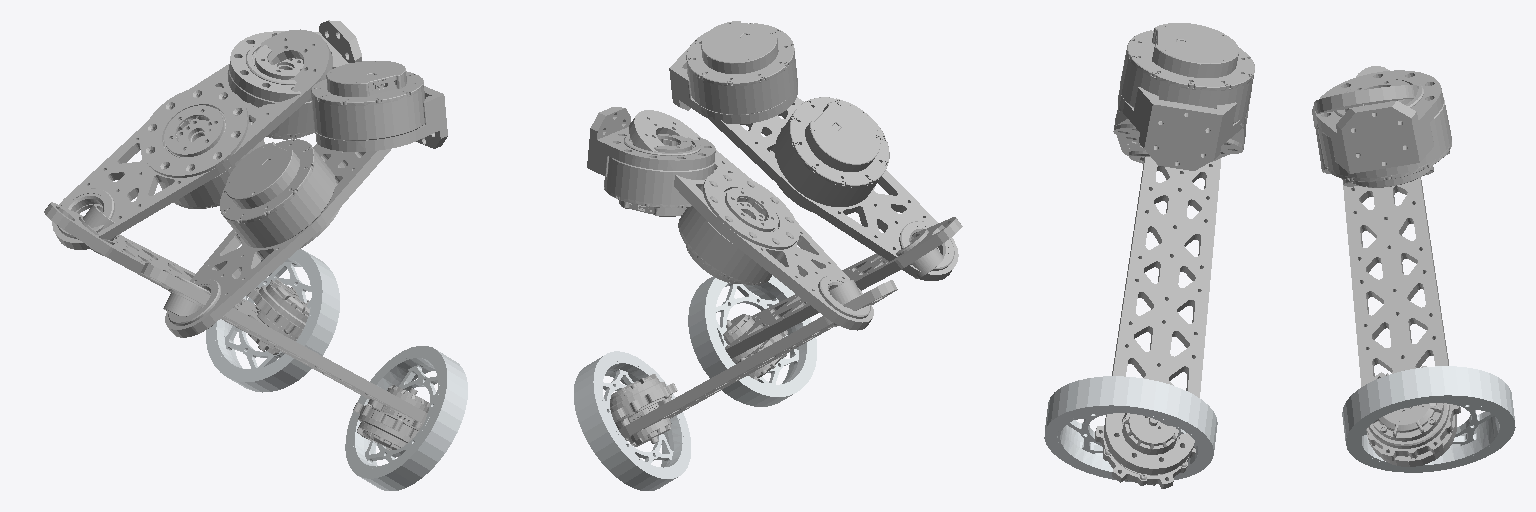
robot.urdf — XbT:
<?xml version="1.0" encoding="utf-8"?>
<!-- This URDF was automatically created by SolidWorks to URDF Exporter! Originally created by [author] ([email redacted]) 
     Commit Version: 1.6.0-4-g7f85cfe  Build Version: 1.6.7995.38578
     For more information, please see http://wiki.ros.org/sw_urdf_exporter -->
<robot
  name="XbT">
  <link name="world" />
  <joint name="floating_base" type="floating">
    <origin rpy="0 0 0" xyz="0 0 0" />
    <parent link="world" />
    <child link="base_link" />
  </joint>
  <link
    name="base_link">
    <inertial>
      <origin
        xyz="-0.036529 0.012661 0.070741"
        rpy="0 0 0" />
      <mass
        value="5.295" />
      <inertia
        ixx="0.056"
        ixy="-0.002"
        ixz="-0.013"
        iyy="0.042"
        iyz="0.001"
        izz="0.058" />
    </inertial>
    <visual>
      <origin
        xyz="0 0 0"
        rpy="-1.5707963 0 0" />
      <geometry>
        <mesh
          filename="../meshes/base_link.STL" />
      </geometry>
      <material
        name="">
        <color
          rgba="0.75294 0.75294 0.75294 1" />
      </material>
    </visual>
    <collision>
      <origin
        xyz="-0.05 0 0.12"
        rpy="0 0 0" />
      <geometry>
        <!-- <mesh
          filename="../meshes/base_link.STL" /> -->
        <box size="0.25 0.28 0.1" />
      </geometry>
    </collision>
  </link>
  <link
    name="left_leg_link">
    <inertial>
      <origin
        xyz="-0.052538 0.010674 9.1537E-05"
        rpy="0 0 0" />
      <mass
        value="1.187" />
      <inertia
        ixx="0.001"
        ixy="0"
        ixz="0"
        iyy="0.002"
        iyz="0"
        izz="0.001" />
    </inertial>
    <visual>
      <origin
        xyz="0 0 0"
        rpy="-1.5707963 0 0" />
      <geometry>
        <mesh
          filename="../meshes/left_leg_link.STL" />
      </geometry>
      <material
        name="">
        <color
          rgba="0.75294 0.75294 0.75294 1" />
      </material>
    </visual>
    <!-- <collision>
      <origin
        xyz="0 0 0"
        rpy="0 0 0" />
      <geometry>
        <mesh
          filename="../meshes/left_leg_link.STL" />
      </geometry>
    </collision> -->
  </link>
  <joint
    name="left_leg"
    type="revolute">
    <origin
      xyz="-0.0128 0.075 0"
      rpy="0.174532925199427 0 0" />
    <parent
      link="base_link" />
    <child
      link="left_leg_link" />
    <axis
      xyz="1 0 0" />
    <limit
      lower="-0.5"
      upper="1.5"
      effort="35"
      velocity="25" />
  </joint>
  <link
    name="left_thigh_Link">
    <inertial>
      <origin
        xyz="-0.10508 0.0024808 4.3413E-05"
        rpy="0 0 0" />
      <mass
        value="1.352" />
      <inertia
        ixx="0.001"
        ixy="0"
        ixz="0"
        iyy="0.004"
        iyz="0"
        izz="0.003" />
    </inertial>
    <visual>
      <origin
        xyz="0 0 0"
        rpy="-1.5707963 0 0" />
      <geometry>
        <mesh
          filename="../meshes/left_thigh_Link.STL" />
      </geometry>
      <material
        name="">
        <color
          rgba="0.75294 0.75294 0.75294 1" />
      </material>
    </visual>
    <collision>
      <origin
        xyz="0 0 0"
        rpy="0 0 0" />
      <geometry>
        <mesh
          filename="../meshes/left_thigh_Link.STL" />
      </geometry>
    </collision>
  </link>
  <joint
    name="left_thigh"
    type="revolute">
    <origin
      xyz="-0.061 -0.00870000000000029 0"
      rpy="0 -0.515645804996215 0" />
    <parent
      link="left_leg_link" />
    <child
      link="left_thigh_Link" />
    <axis
      xyz="0 1 0" />
    <limit
      lower="-1.2"
      upper="0.7"
      effort="35"
      velocity="25" />
  </joint>
  <link
    name="left_calf_Link">
    <inertial>
      <origin
        xyz="-0.14436 -0.0024636 4.8404E-05"
        rpy="0 0 0" />
      <mass
        value="0.435" />
      <inertia
        ixx="0.00001"
        ixy="0"
        ixz="0"
        iyy="0.005"
        iyz="0"
        izz="0.004" />
    </inertial>
    <visual>
      <origin
        xyz="0 0 0"
        rpy="-1.5707963 0 0" />
      <geometry>
        <mesh
          filename="../meshes/left_calf_Link.STL" />
      </geometry>
      <material
        name="">
        <color
          rgba="0.75294 0.75294 0.75294 1" />
      </material>
    </visual>
    <collision>
      <origin
        xyz="-0.12 -0.006 0"
        rpy="0 0 0" />
      <geometry>
        <!-- <mesh
          filename="../meshes/left_calf_Link.STL" /> -->
        <box size="0.15 0.01 0.06" />  
      </geometry>
    </collision>
  </link>
  <joint
    name="left_calf"
    type="revolute">
    <origin
      xyz="-0.22 -0.0135 0"
      rpy="-3.14159265358979 -1.16905570038803 3.14159265358979" />
    <parent
      link="left_thigh_Link" />
    <child
      link="left_calf_Link" />
    <axis
      xyz="0 -1 0" />
    <limit
      lower="-1.0"
      upper="0.42"
      effort="35"
      velocity="25" />
  </joint>
  <link
    name="left_foot_Link">
    <inertial>
      <origin
        xyz="1.1102E-16 -0.0025 0"
        rpy="0 0 0" />
      <mass
        value="0.20416" />
      <inertia
        ixx="0.00001"
        ixy="0"
        ixz="0"
        iyy="0.001"
        iyz="0"
        izz="0.00001" />
    </inertial>
    <visual>
      <origin
        xyz="0 0 0"
        rpy="-1.5707963 0 0" />
      <geometry>
        <mesh
          filename="../meshes/left_foot_Link.STL" />
      </geometry>
      <material
        name="">
        <color
          rgba="0.89804 0.91765 0.92941 1" />
      </material>
    </visual>
    <collision>
      <origin
        xyz="0 0 0"
        rpy="0 0 0" />
      <geometry>
        <mesh
          filename="../meshes/left_foot_Link.STL" />
      </geometry>
    </collision>
  </link>
  <joint
    name="left_foot"
    type="revolute">
    <origin
      xyz="-0.25 0.01431 0"
      rpy="0 1.54054587363839 -3.14159265358975" />
    <parent
      link="left_calf_Link" />
    <child
      link="left_foot_Link" />
    <axis
      xyz="0 1 0" />
    <limit
      effort="3.5"
      velocity="55"
      lower="-999999" 
      upper="999999" />
  </joint>
  <link
    name="right_leg_Link">
    <inertial>
      <origin
        xyz="-0.052538 -0.010674 -9.1537E-05"
        rpy="0 0 0" />
      <mass
        value="1.187" />
      <inertia
        ixx="0.001"
        ixy="0"
        ixz="0"
        iyy="0.002"
        iyz="0"
        izz="0.001" />
    </inertial>
    <visual>
      <origin
        xyz="0 0 0"
        rpy="-1.5707963 0 0" />
      <geometry>
        <mesh
          filename="../meshes/right_leg_Link.STL" />
      </geometry>
      <material
        name="">
        <color
          rgba="0.75294 0.75294 0.75294 1" />
      </material>
    </visual>
    <!-- <collision>
      <origin
        xyz="0 0 0"
        rpy="0 0 0" />
      <geometry>
        <mesh
          filename="../meshes/right_leg_Link.STL" />
      </geometry>
    </collision> -->
  </link>
  <joint
    name="right_leg"
    type="revolute">
    <origin
      xyz="-0.0128 -0.0750000000000003 0"
      rpy="-0.174532925199426 0 0" />
    <parent
      link="base_link" />
    <child
      link="right_leg_Link" />
    <axis
      xyz="1 0 0" />
    <limit
      lower="-1.5"
      upper="0.5"
      effort="35"
      velocity="25" />
  </joint>
  <link
    name="right_thigh_Link">
    <inertial>
      <origin
        xyz="-0.10508 -0.0024808 -4.3413E-05"
        rpy="0 0 0" />
      <mass
        value="1.352" />
      <inertia
        ixx="0.001"
        ixy="0"
        ixz="0"
        iyy="0.004"
        iyz="0"
        izz="0.003" />
    </inertial>
    <visual>
      <origin
        xyz="0 0 0"
        rpy="-1.5707963 0 0" />
      <geometry>
        <mesh
          filename="../meshes/right_thigh_Link.STL" />
      </geometry>
      <material
        name="">
        <color
          rgba="0.75294 0.75294 0.75294 1" />
      </material>
    </visual>
    <collision>
      <origin
        xyz="0 0 0"
        rpy="0 0 0" />
      <geometry>
        <mesh
          filename="../meshes/right_thigh_Link.STL" />
      </geometry>
    </collision>
  </link>
  <joint
    name="right_thigh"
    type="revolute">
    <origin
      xyz="-0.0610000000000001 0.0087000000000003 0"
      rpy="0 -0.576283762917694 0" />
    <parent
      link="right_leg_Link" />
    <child
      link="right_thigh_Link" />
    <axis
      xyz="0 -1 0" />
    <limit
      lower="-0.7"
      upper="1.2"
      effort="35"
      velocity="25" />
  </joint>
  <link
    name="right_calf_Link">
    <inertial>
      <origin
        xyz="-0.14436 -0.0024636 4.8403E-05"
        rpy="0 0 0" />
      <mass
        value="0.43522" />
      <inertia
        ixx="0.00001"
        ixy="0.001"
        ixz="0"
        iyy="0.004"
        iyz="0"
        izz="0.004" />
    </inertial>
    <visual>
      <origin
        xyz="0 0 0"
        rpy="-1.5707963 0 0" />
      <geometry>
        <mesh
          filename="../meshes/right_calf_Link.STL" />
      </geometry>
      <material
        name="">
        <color
          rgba="0.75294 0.75294 0.75294 1" />
      </material>
    </visual>
    <collision>
      <origin
        xyz="-0.12 -0.006 0"
        rpy="0 0 0" />
      <geometry>
        <!-- <mesh
          filename="../meshes/right_calf_Link.STL" /> -->
        <box size="0.15 0.01 0.06" />
      </geometry>
    </collision>
  </link>
  <joint
    name="right_calf"
    type="revolute">
    <origin
      xyz="-0.22 0.0135 0"
      rpy="0 -1.22091642511945 3.14159265358979" />
    <parent
      link="right_thigh_Link" />
    <child
      link="right_calf_Link" />
    <axis
      xyz="0 -1 0" />
    <limit
      lower="-0.42"
      upper="1.0"
      effort="35"
      velocity="25" />
  </joint>
  <link
    name="right_foot_Link">
    <inertial>
      <origin
        xyz="-1.1102E-16 0.0025 -5.5511E-17"
        rpy="0 0 0" />
      <mass
        value="0.20416" />
      <inertia
        ixx="0.00001"
        ixy="0"
        ixz="0"
        iyy="0.001"
        iyz="0"
        izz="0.00001" />
    </inertial>
    <visual>
      <origin
        xyz="0 0 0"
        rpy="-1.5707963 0 0" />
      <geometry>
        <mesh
          filename="../meshes/right_foot_Link.STL" />
      </geometry>
      <material
        name="">
        <color
          rgba="0.89804 0.91765 0.92941 1" />
      </material>
    </visual>
    <collision>
      <origin
        xyz="0 0 0"
        rpy="0 0 0" />
      <geometry>
        <mesh
          filename="../meshes/right_foot_Link.STL" />
      </geometry>
    </collision>
  </link>
  <joint
    name="right_foot"
    type="revolute">
    <origin
      xyz="-0.25 0.01431 0"
      rpy="-3.14159265358976 -1.53176864044834 3.14159265358976" />
    <parent
      link="right_calf_Link" />
    <child
      link="right_foot_Link" />
    <axis
      xyz="0 -1 0" />
    <limit
      effort="3.5"
      velocity="55"
      lower="-999999" 
      upper="999999" />
  </joint>
</robot>

--- Facts derived from the render (not from the file) ---
3 views of the same robot in one strip: view 1: azimuth 30°, elevation 25°; view 2: azimuth 150°, elevation 25°; view 3: azimuth 270°, elevation 25° (orthographic).
Robot: XbT — 10 links, 9 joints (8 revolute, 1 floating); root link world; default pose: every joint at zero.
Links seen in each view (by area): view 1: left_thigh_Link, right_thigh_Link, right_leg_Link, right_foot_Link, right_calf_Link, left_foot_Link, left_calf_Link, left_leg_link; view 2: right_thigh_Link, left_thigh_Link, right_leg_Link, left_leg_link, left_foot_Link, left_calf_Link, right_foot_Link, right_calf_Link; view 3: right_calf_Link, left_calf_Link, right_leg_Link, left_leg_link, left_foot_Link, right_foot_Link, left_thigh_Link, right_thigh_Link.
Link boxes in pixels (x1,y1,x2,y2): left_thigh_Link: [52, 29, 332, 249]; right_thigh_Link: [165, 139, 390, 337]; right_leg_Link: [311, 61, 447, 151]; right_foot_Link: [345, 346, 467, 490]; right_calf_Link: [141, 263, 429, 450]; left_foot_Link: [206, 249, 339, 392]; left_calf_Link: [44, 202, 309, 354]; left_leg_link: [228, 20, 361, 139]; right_thigh_Link: [702, 97, 958, 280]; left_thigh_Link: [629, 110, 873, 330]; right_leg_Link: [669, 21, 797, 123]; left_leg_link: [587, 107, 715, 216]; left_foot_Link: [574, 351, 690, 490]; left_calf_Link: [610, 280, 897, 446]; right_foot_Link: [688, 275, 816, 406]; right_calf_Link: [723, 217, 962, 380]; right_calf_Link: [1095, 156, 1220, 488]; left_calf_Link: [1343, 66, 1460, 466]; right_leg_Link: [1118, 23, 1254, 170]; left_leg_link: [1315, 70, 1451, 187]; left_foot_Link: [1342, 366, 1515, 472]; right_foot_Link: [1044, 376, 1217, 481]; left_thigh_Link: [1312, 85, 1449, 186]; right_thigh_Link: [1113, 89, 1251, 163].
Size in the robot's own frame: 0.3075 by 0.3583 by 0.3819 metres.
8 mesh visuals loaded from 9 distinct referenced files (8 binary STL); not drawn: 1 (reference not matched to a file when rendering).
